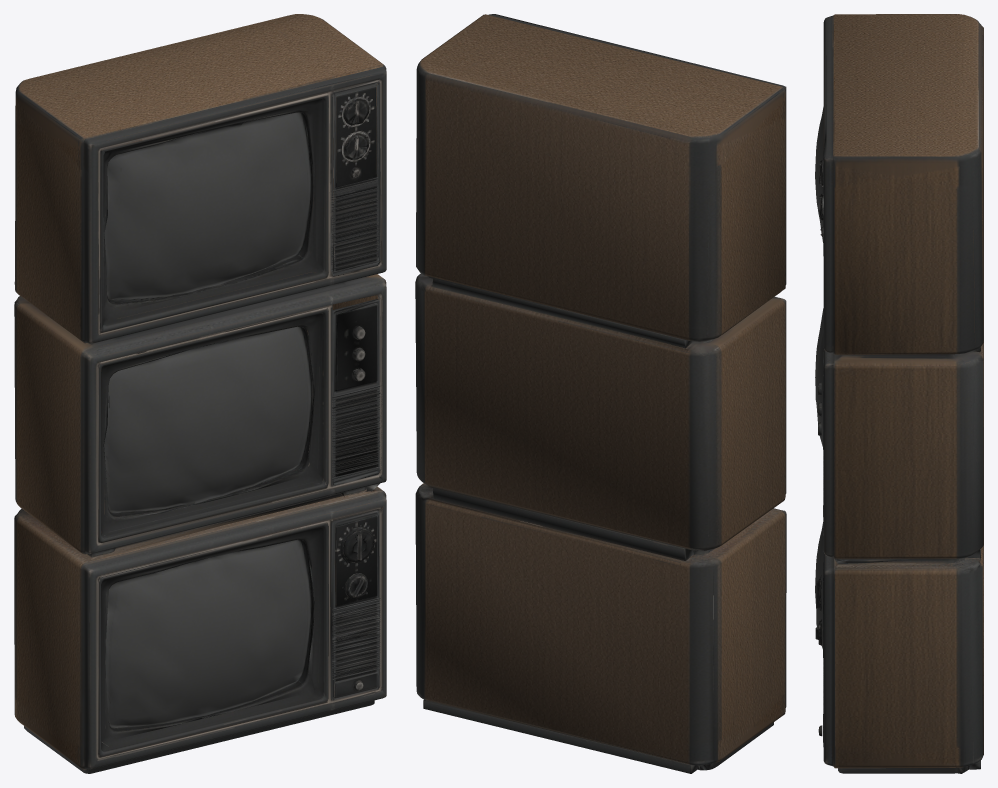
Rendered from televisions.glb.
The picture shows the model from 3 angles, left to right: view 1: azimuth 30°, elevation 25°; view 2: azimuth 150°, elevation 25°; view 3: azimuth 270°, elevation 25°; orthographic projection. The views are drawn at different scales.
Bounding box in the file's own units: 0.4751 × 0.9517 × 0.2344.
1 material, 1 textured.
